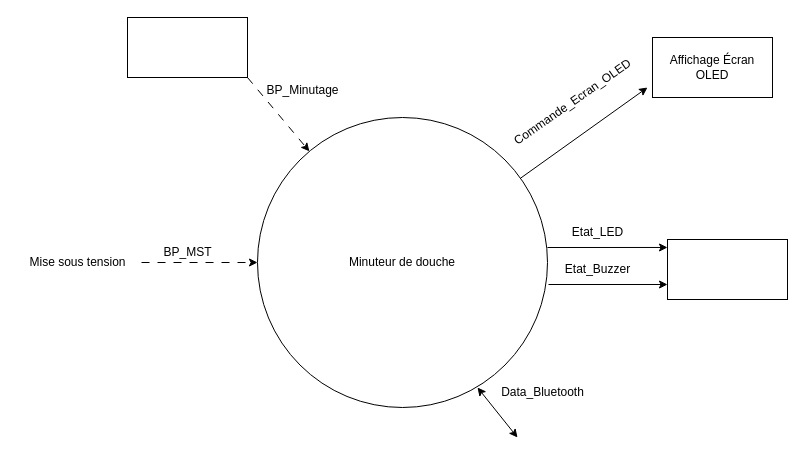
The diagram is 805 pixels wide and 464 high, and some of its shapes have lost their labels. The box of each missing label's shape, as (x1, y1, x2, y2) in pixels:
Alertes: (666, 238, 788, 300)
Lancement_Minutage: (126, 16, 248, 78)
